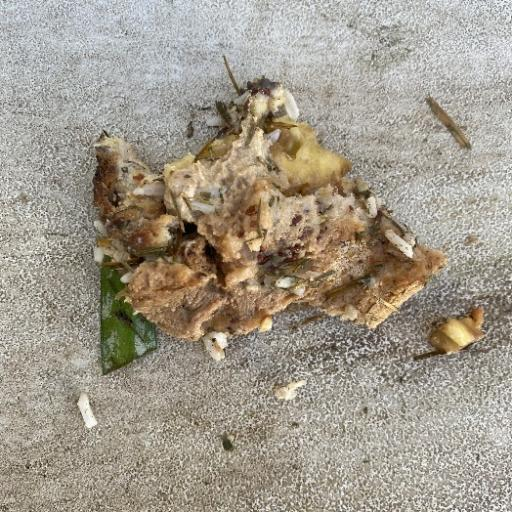Waste: (89, 55, 447, 373), (425, 305, 487, 356)
